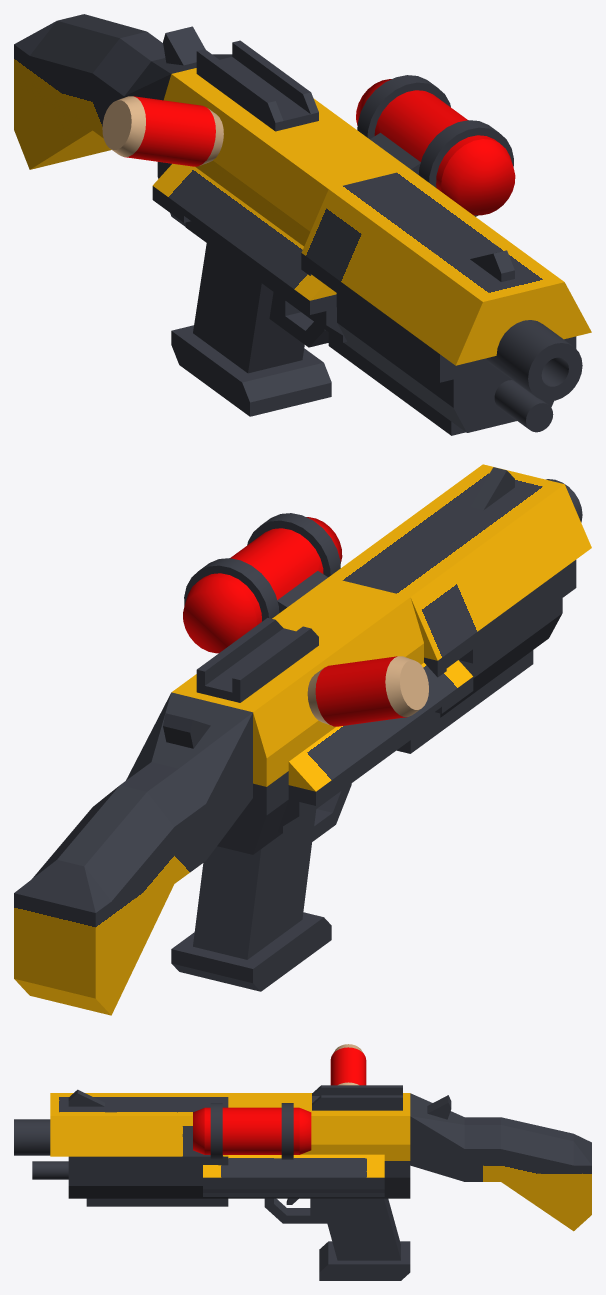
The model's file is SM_GasSMG_nomag.fbx.
3 views of the same model, one above another, from view 1: azimuth 30°, elevation 25°; view 2: azimuth 150°, elevation 25°; view 3: azimuth 270°, elevation 25° (orthographic). The views are drawn at different scales.
Visible parts, largest first — view 1: largeBlaster_barrelAssault, mediumBlaster_handle, largeBlaster_centerDetail (×2), stock_solid, attachment_barrel, attachment_handle, detailRail_front, detailTargetSightFront; view 2: stock_solid, mediumBlaster_handle, largeBlaster_barrelAssault, largeBlaster_centerDetail (×2), attachment_barrel, attachment_handle, detailRail_front, detailTargetSightFront; view 3: largeBlaster_barrelAssault, mediumBlaster_handle, stock_solid, largeBlaster_centerDetail (×2), attachment_barrel, detailRail_front, attachment_handle, detailTargetSightFront.
Part boxes in pixels (x1,y1,x2,y2): largeBlaster_barrelAssault: (345,201,591,435); mediumBlaster_handle: (157,68,409,416); largeBlaster_centerDetail (×2): (152,163,454,377); stock_solid: (14,14,232,169); attachment_barrel: (356,75,515,216); attachment_handle: (102,96,223,166); detailRail_front: (196,40,318,131); detailTargetSightFront: (470,250,514,281); stock_solid: (14,692,252,1015); mediumBlaster_handle: (171,577,423,991); largeBlaster_barrelAssault: (373,464,591,721); largeBlaster_centerDetail (×2): (277,545,481,833); attachment_barrel: (183,513,342,653); attachment_handle: (307,656,428,726); detailRail_front: (196,618,318,702); detailTargetSightFront: (470,467,514,510); largeBlaster_barrelAssault: (14,1093,177,1206); mediumBlaster_handle: (228,1093,410,1280); stock_solid: (410,1093,591,1231); largeBlaster_centerDetail (×2): (177,1093,384,1206); attachment_barrel: (193,1103,311,1159); detailRail_front: (312,1085,402,1110); attachment_handle: (330,1044,366,1085); detailTargetSightFront: (68,1089,104,1106).
Bounding box in the file's own units: 10.47 × 11.42 × 31.8.
